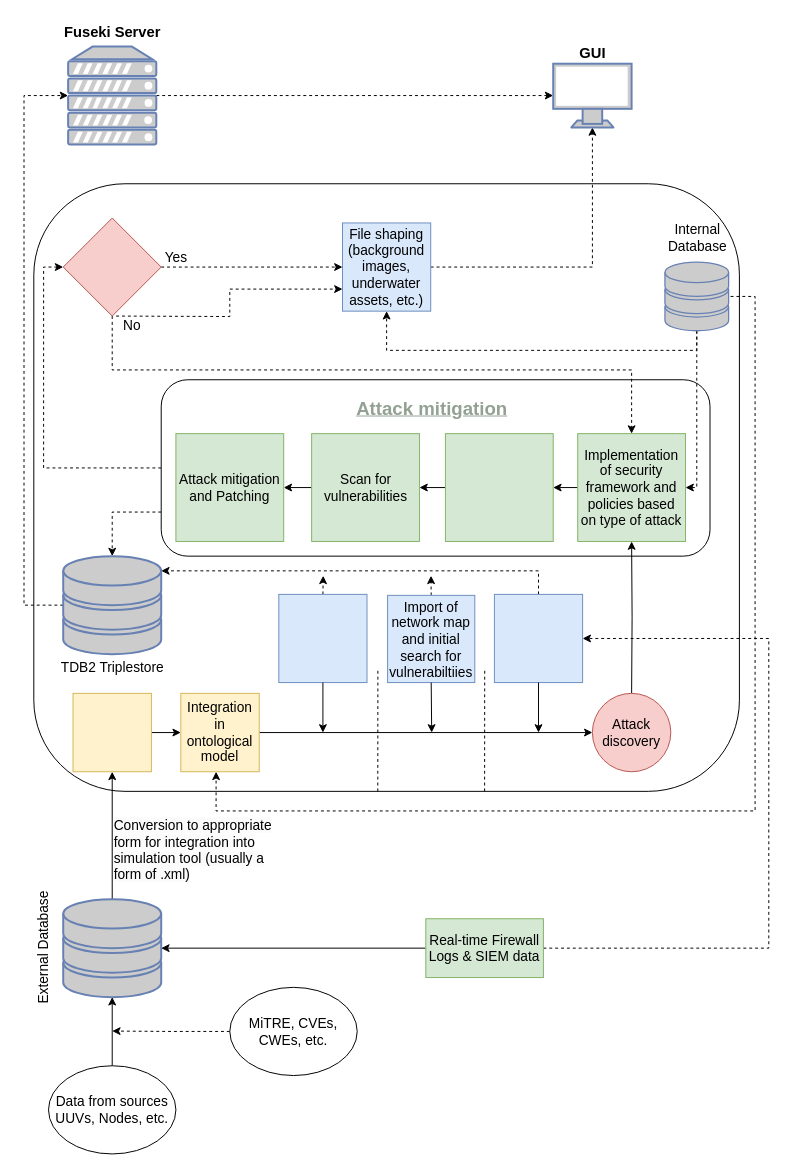
Some shapes in this 794 by 1171 pixel diagram are drawn without their labels. Here are the shapes that lost their labels. From the top down, the box of each, then its label:
(62, 217, 161, 316): Attack mitigated
(444, 433, 553, 541): Underwater communication protocol integration
(278, 593, 367, 683): Creation of assets and instances
(493, 593, 583, 683): Enrichment with SIEM alerts
(72, 692, 151, 772): Conversion of data in json and then to rdf
